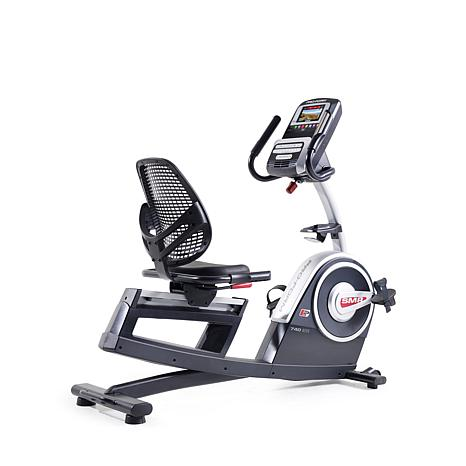gym_bike: (61, 90, 397, 430)
